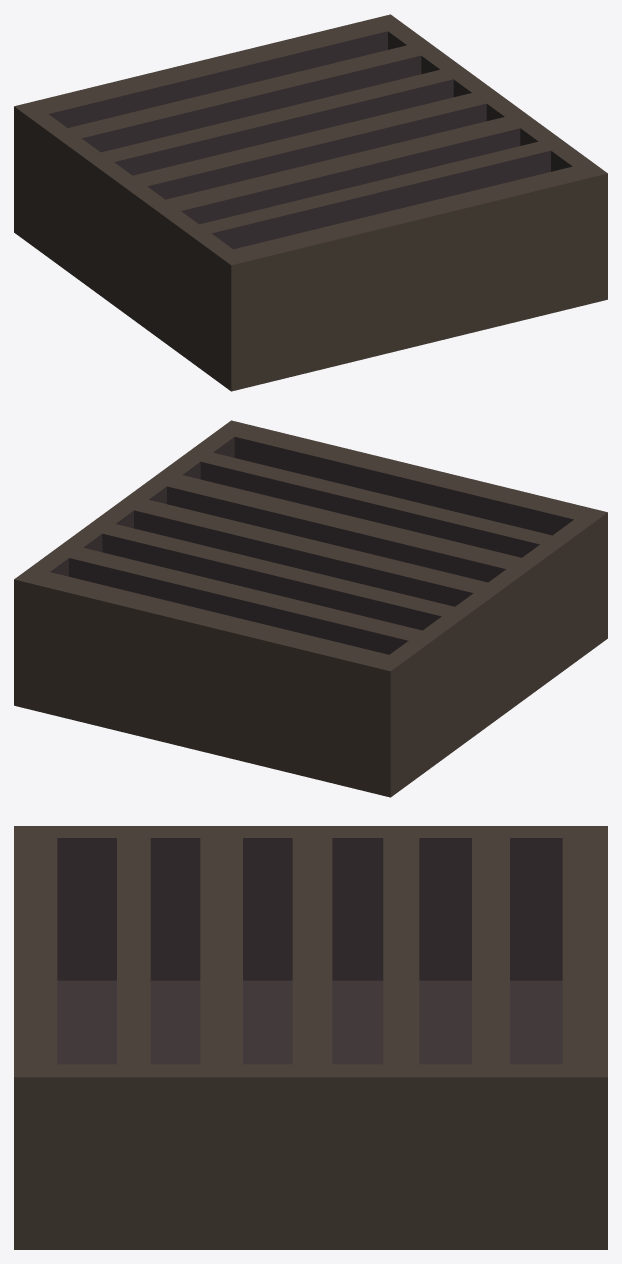
The model's file is vent1.fbx.
3 renders of one model, top to bottom at view 1: azimuth 30°, elevation 25°; view 2: azimuth 150°, elevation 25°; view 3: azimuth 270°, elevation 25°, orthographic. The views are drawn at different scales.
Visible parts, largest first — view 1: vent1; view 2: vent1; view 3: vent1.
Part boxes in pixels (x1,y1,x2,y2): vent1: (14,14,607,391); vent1: (14,420,607,797); vent1: (14,826,607,1249).
Bounding box in the file's own units: 19.65 × 6.29 × 19.64.
